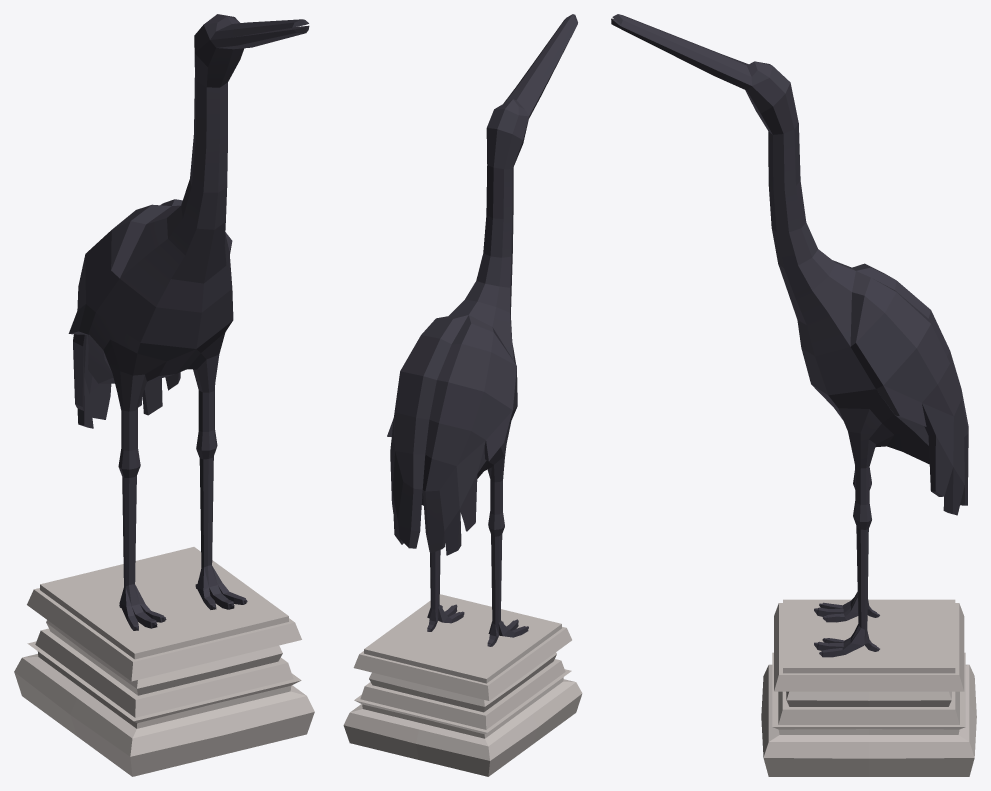
The model's file is SM_Sculpture_14.fbx.
3 views of the same model, side by side, from view 1: azimuth 30°, elevation 25°; view 2: azimuth 150°, elevation 25°; view 3: azimuth 270°, elevation 25° (orthographic). The views are drawn at different scales.
Parts seen in each view (by area): view 1: SM_Sculpture_14; view 2: SM_Sculpture_14; view 3: SM_Sculpture_14.
Part boxes in pixels (x1,y1,x2,y2): SM_Sculpture_14: (14, 14, 314, 776); SM_Sculpture_14: (343, 14, 582, 776); SM_Sculpture_14: (611, 14, 976, 776).
Size of the model in its own units: 95.92 by 387 by 177.
